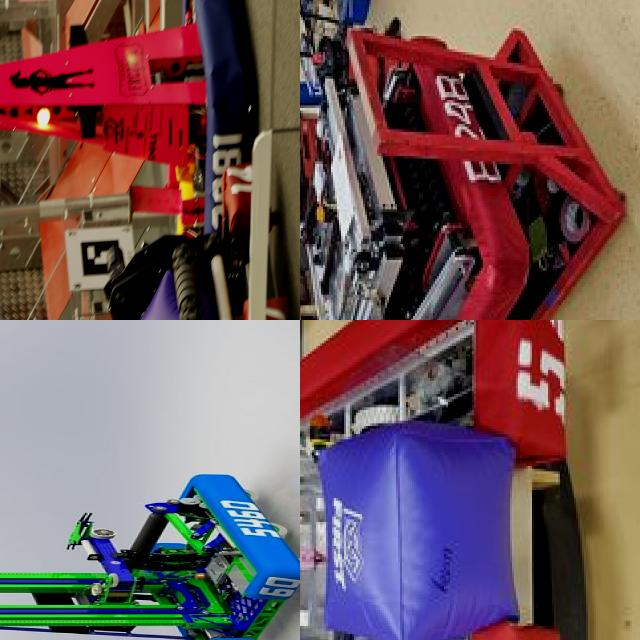FRC-Robots: (300, 320, 590, 640), (300, 0, 494, 320), (0, 444, 300, 640), (0, 0, 254, 226), (87, 218, 300, 320)
